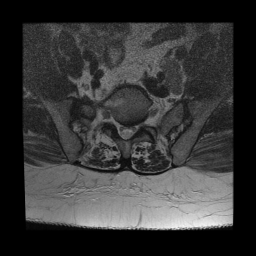CCS_normal: (124, 119, 130, 144)
LFS_normal: (137, 114, 144, 135)
LLS_normal: (130, 119, 137, 139)
RFS_normal: (112, 112, 118, 133)
RLS_normal: (118, 117, 124, 143)
